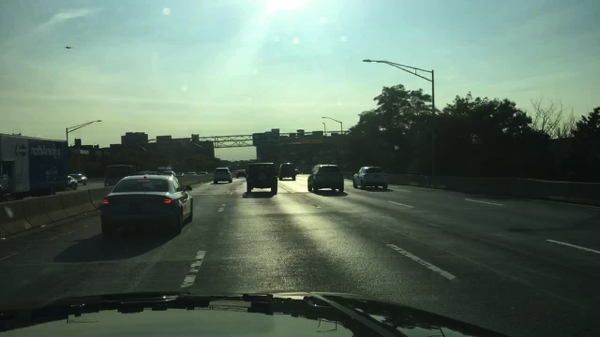car: (98, 173, 193, 239), (307, 163, 344, 193), (245, 162, 278, 195), (351, 166, 388, 190), (104, 163, 135, 186), (212, 167, 233, 185), (277, 163, 296, 182), (72, 173, 90, 184), (66, 176, 80, 189), (156, 166, 173, 174), (236, 169, 247, 179), (0, 188, 6, 204), (163, 170, 176, 176), (147, 169, 157, 176), (185, 171, 197, 176), (196, 171, 207, 176), (175, 171, 184, 177), (294, 169, 301, 175), (138, 170, 146, 173)
traffic sign: (251, 128, 280, 147), (296, 131, 324, 144)
truck: (0, 133, 72, 198)
